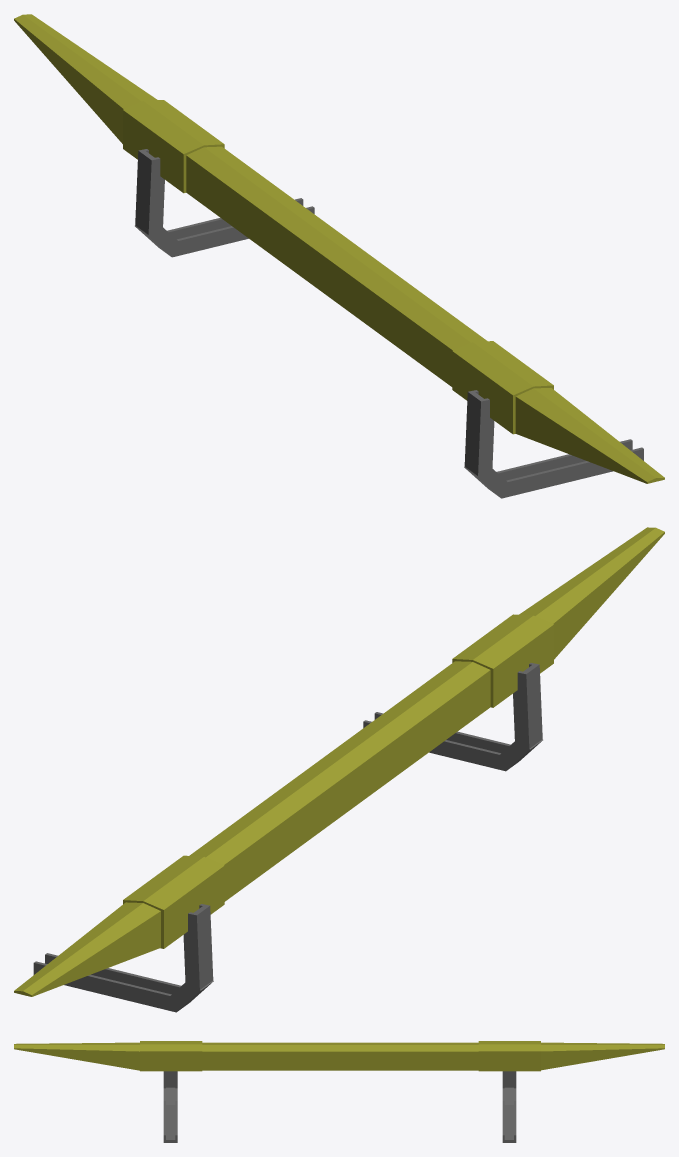
Rendered from 3rd_rail.obj.
The picture shows the model from 3 angles, top to bottom: view 1: azimuth 30°, elevation 25°; view 2: azimuth 150°, elevation 25°; view 3: azimuth 270°, elevation 25°; orthographic projection. The views are drawn at different scales.
Visible parts, largest first — view 1: mesh, cube; view 2: mesh, cube; view 3: mesh, cube.
Boxes of the visible parts, x1,y1,x2,y2 form: mesh: (14,14,664,483); cube: (135,149,643,498); mesh: (14,527,664,996); cube: (33,663,542,1012); mesh: (14,1041,664,1071); cube: (163,1071,516,1142).
Bounding box in the file's own units: 0.5846 × 0.425 × 3.84.
1 material, 1 textured.
